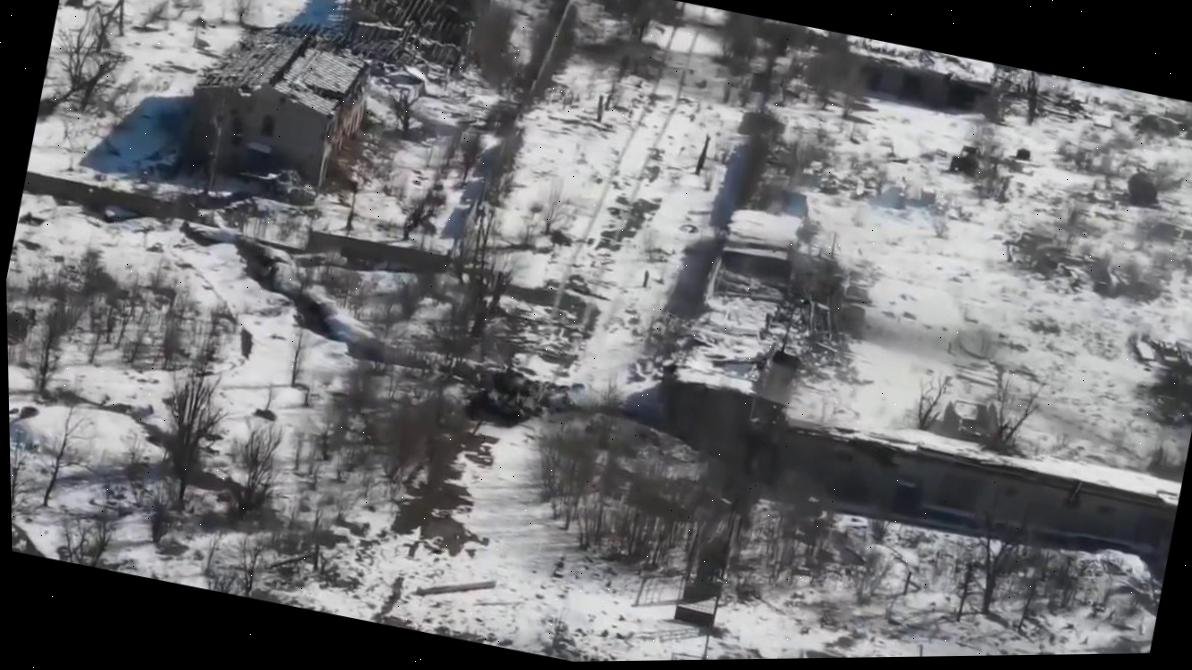tank: (482, 359, 543, 419)
